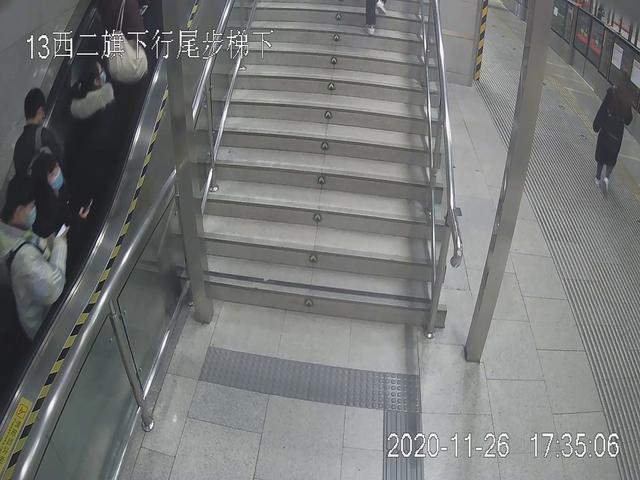person: (1, 179, 73, 348), (58, 45, 128, 206), (4, 81, 62, 217), (591, 65, 637, 197)
